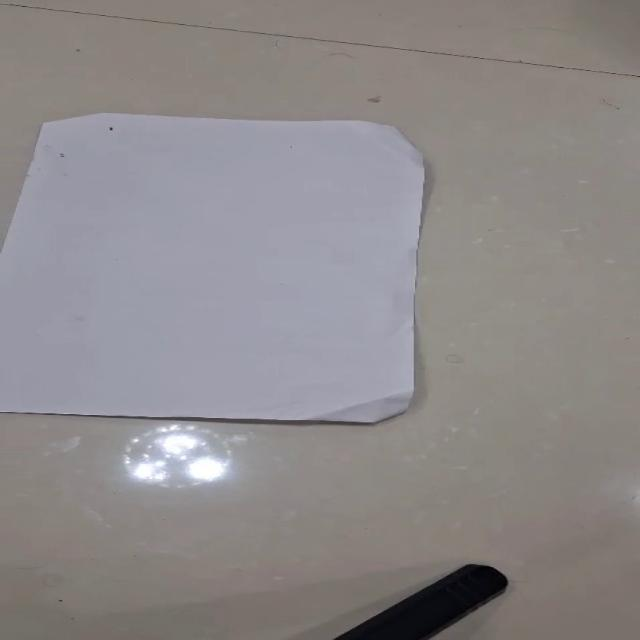paper: (0, 111, 426, 424)
